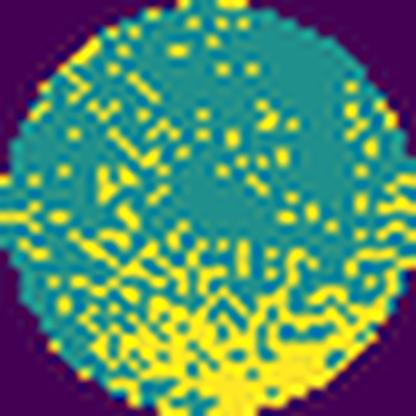Edge-Loc: (97, 241, 415, 415)
